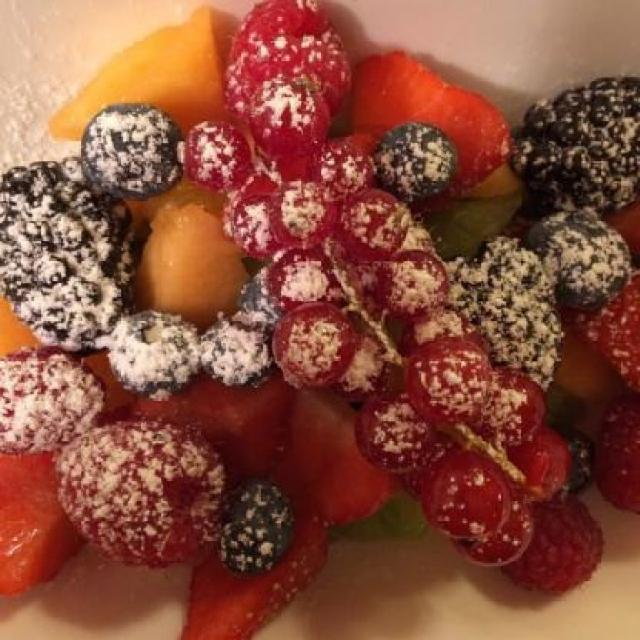Strawberry: (342, 54, 516, 208), (112, 366, 294, 480), (177, 511, 334, 640), (266, 396, 397, 527), (0, 446, 94, 600)
